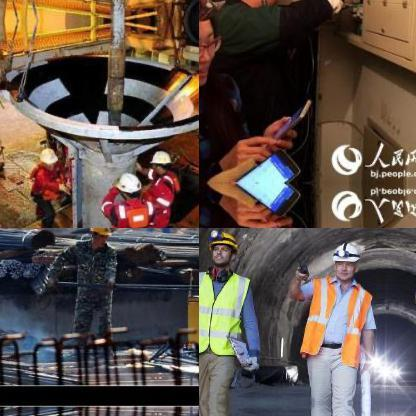Helmet: (205, 229, 241, 265), (330, 240, 361, 280), (114, 171, 142, 201), (147, 148, 170, 174), (38, 144, 56, 168), (86, 228, 110, 245)
